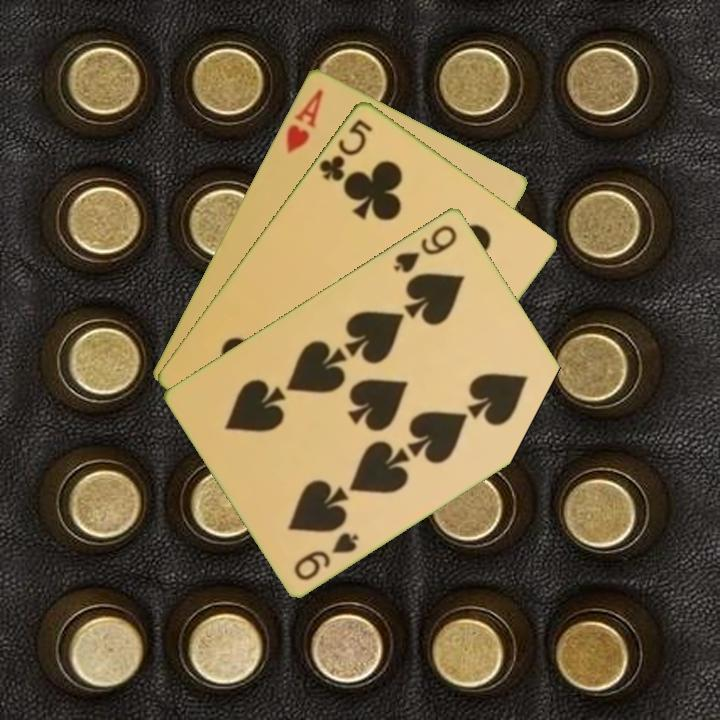5c: (315, 114, 375, 184)
9s: (290, 528, 362, 583), (390, 220, 460, 275)
Ah: (282, 85, 326, 156)
